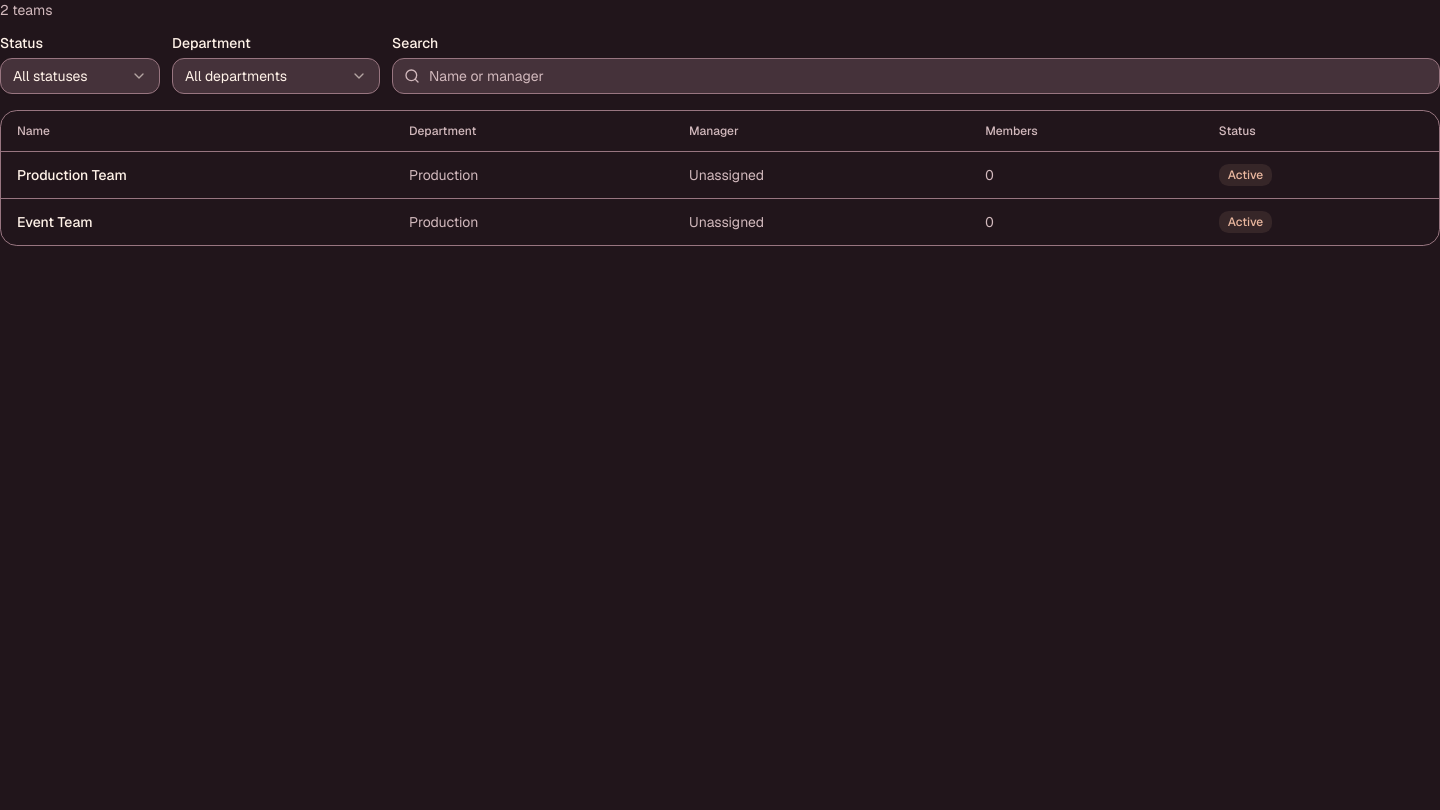
Test case: TeamsManager API integration › removes a team from the list after a delete
Expected: the text "2 teams" is shown, [0,0,52,20]
Click the button "Event Team" at x=55, y=222, box [17,212,93,232]
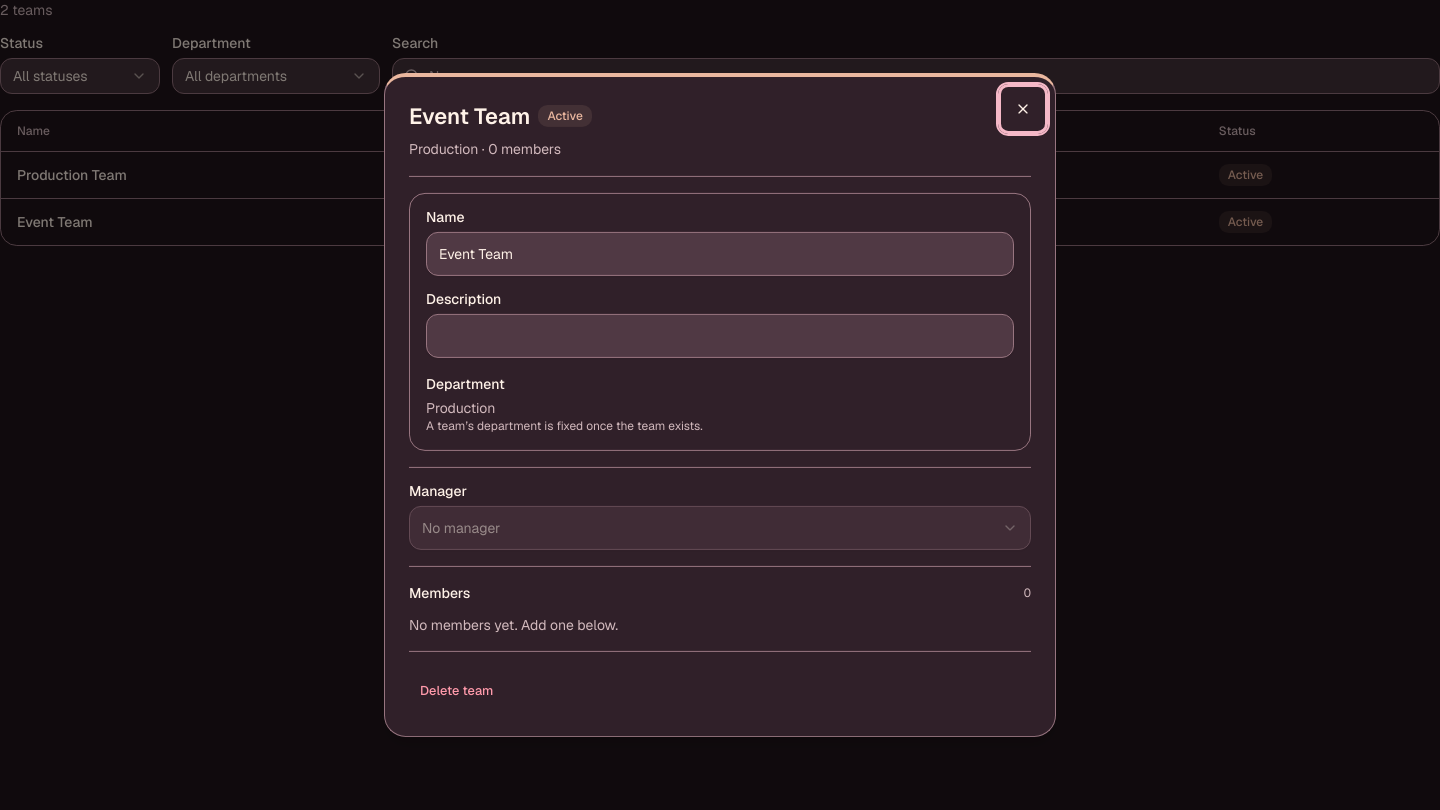
Expected: the heading "Event Team" is shown, [409,101,530,132]
Click the button "Delete team" at x=457, y=690, box [409,668,504,712]
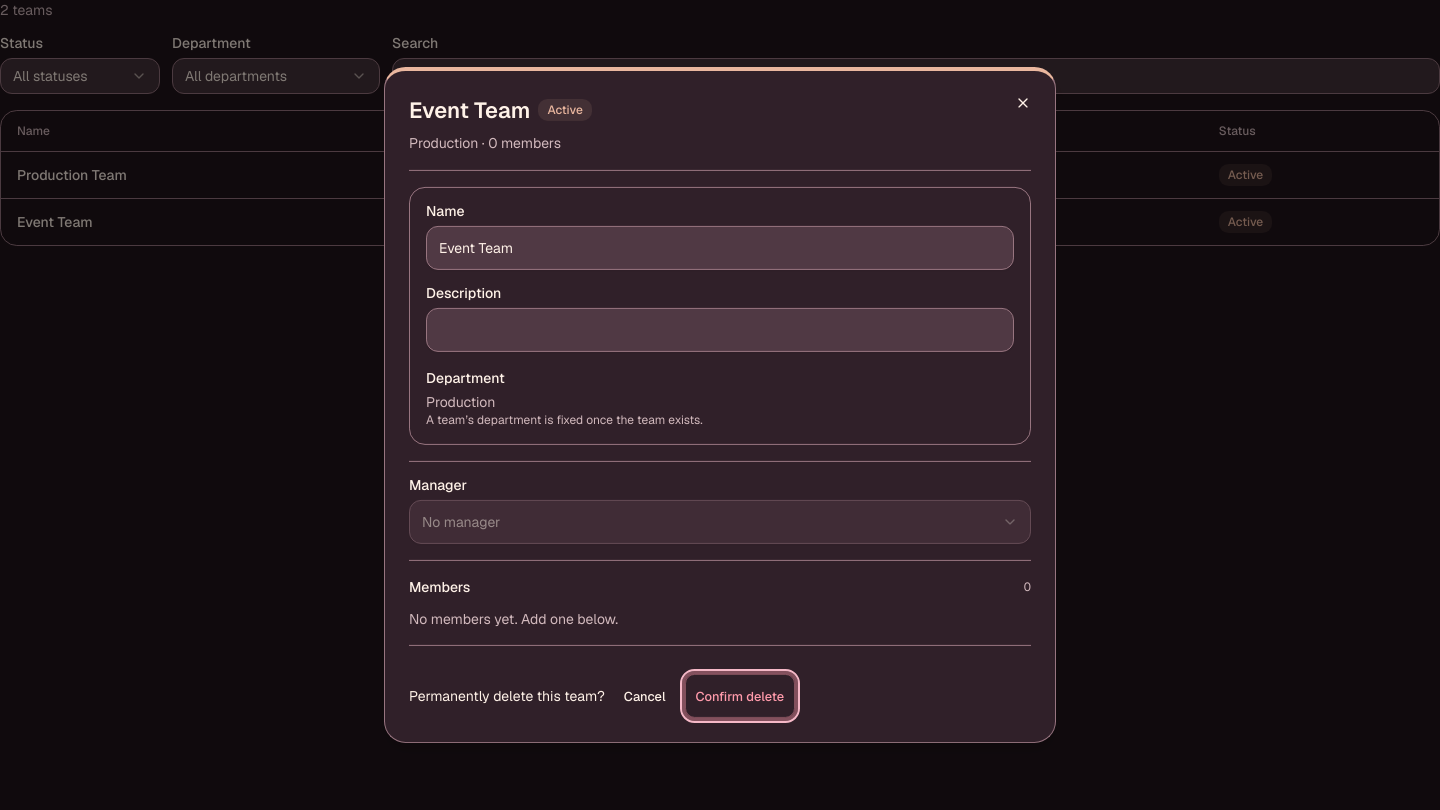
Click the button "Confirm delete" at x=740, y=696, box [684,674,795,718]
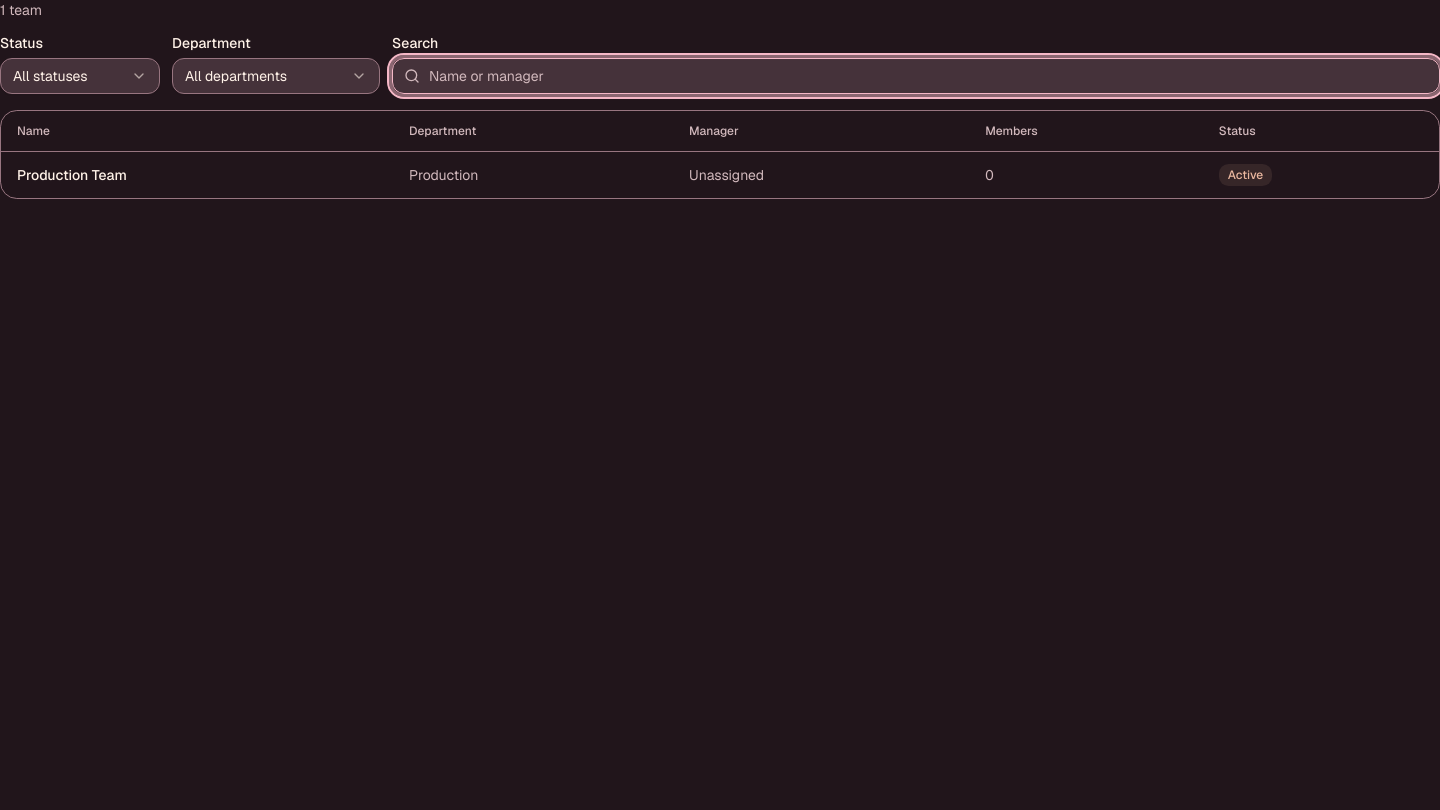
Expected: the text "1 team" is shown, [0,0,42,20]
